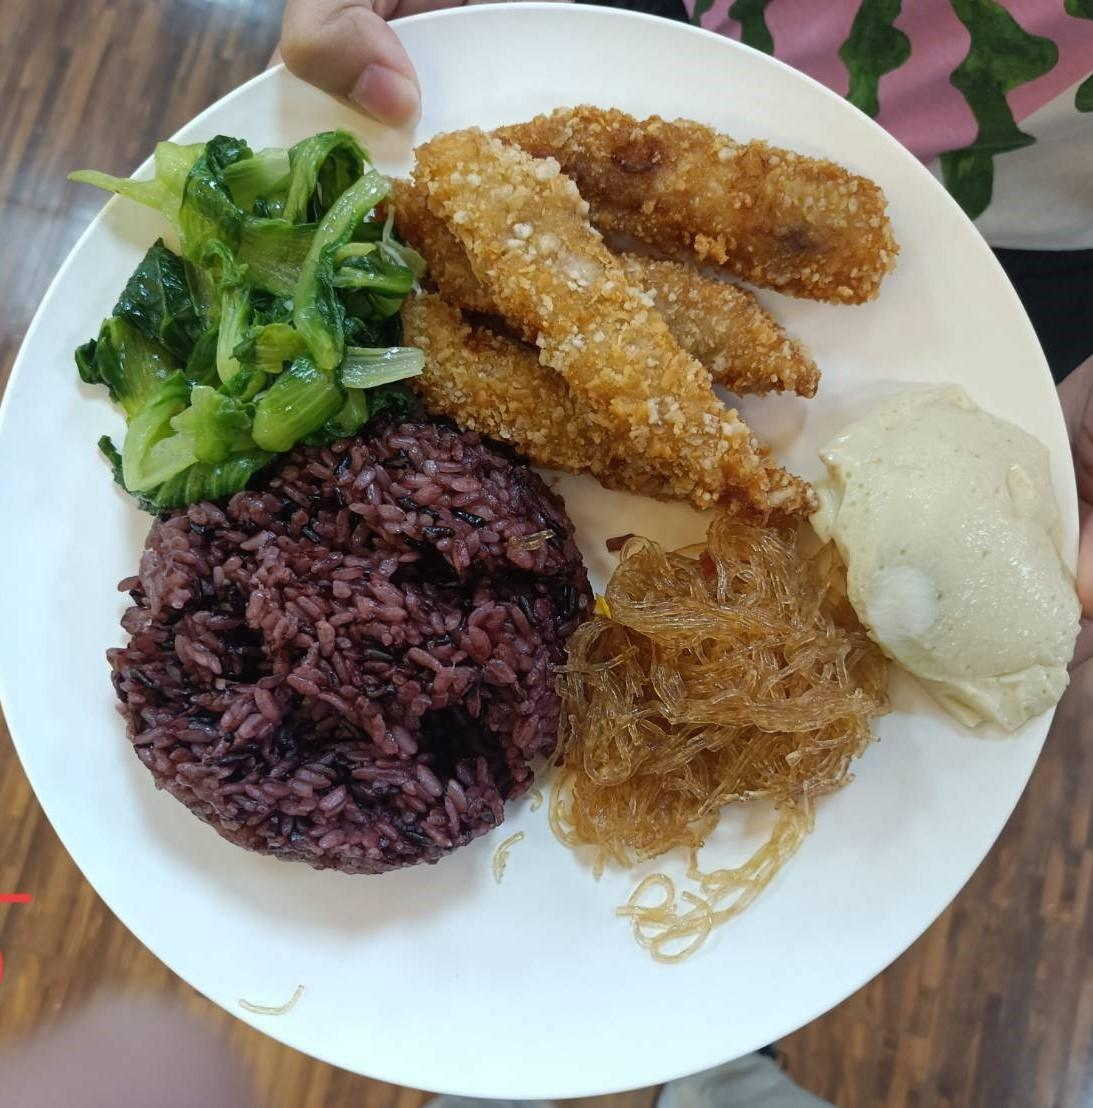big fried chicken leg: (10, 18, 1071, 1108)
braised fish: (127, 418, 566, 893)
braised fish fillet: (571, 506, 858, 878), (103, 160, 396, 470), (827, 400, 1076, 721)
braised pork: (410, 83, 893, 494)
